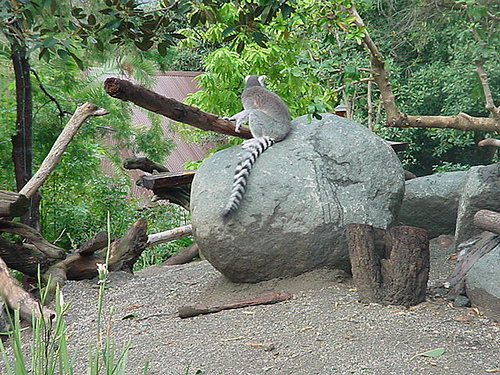cat: (223, 72, 294, 218)
